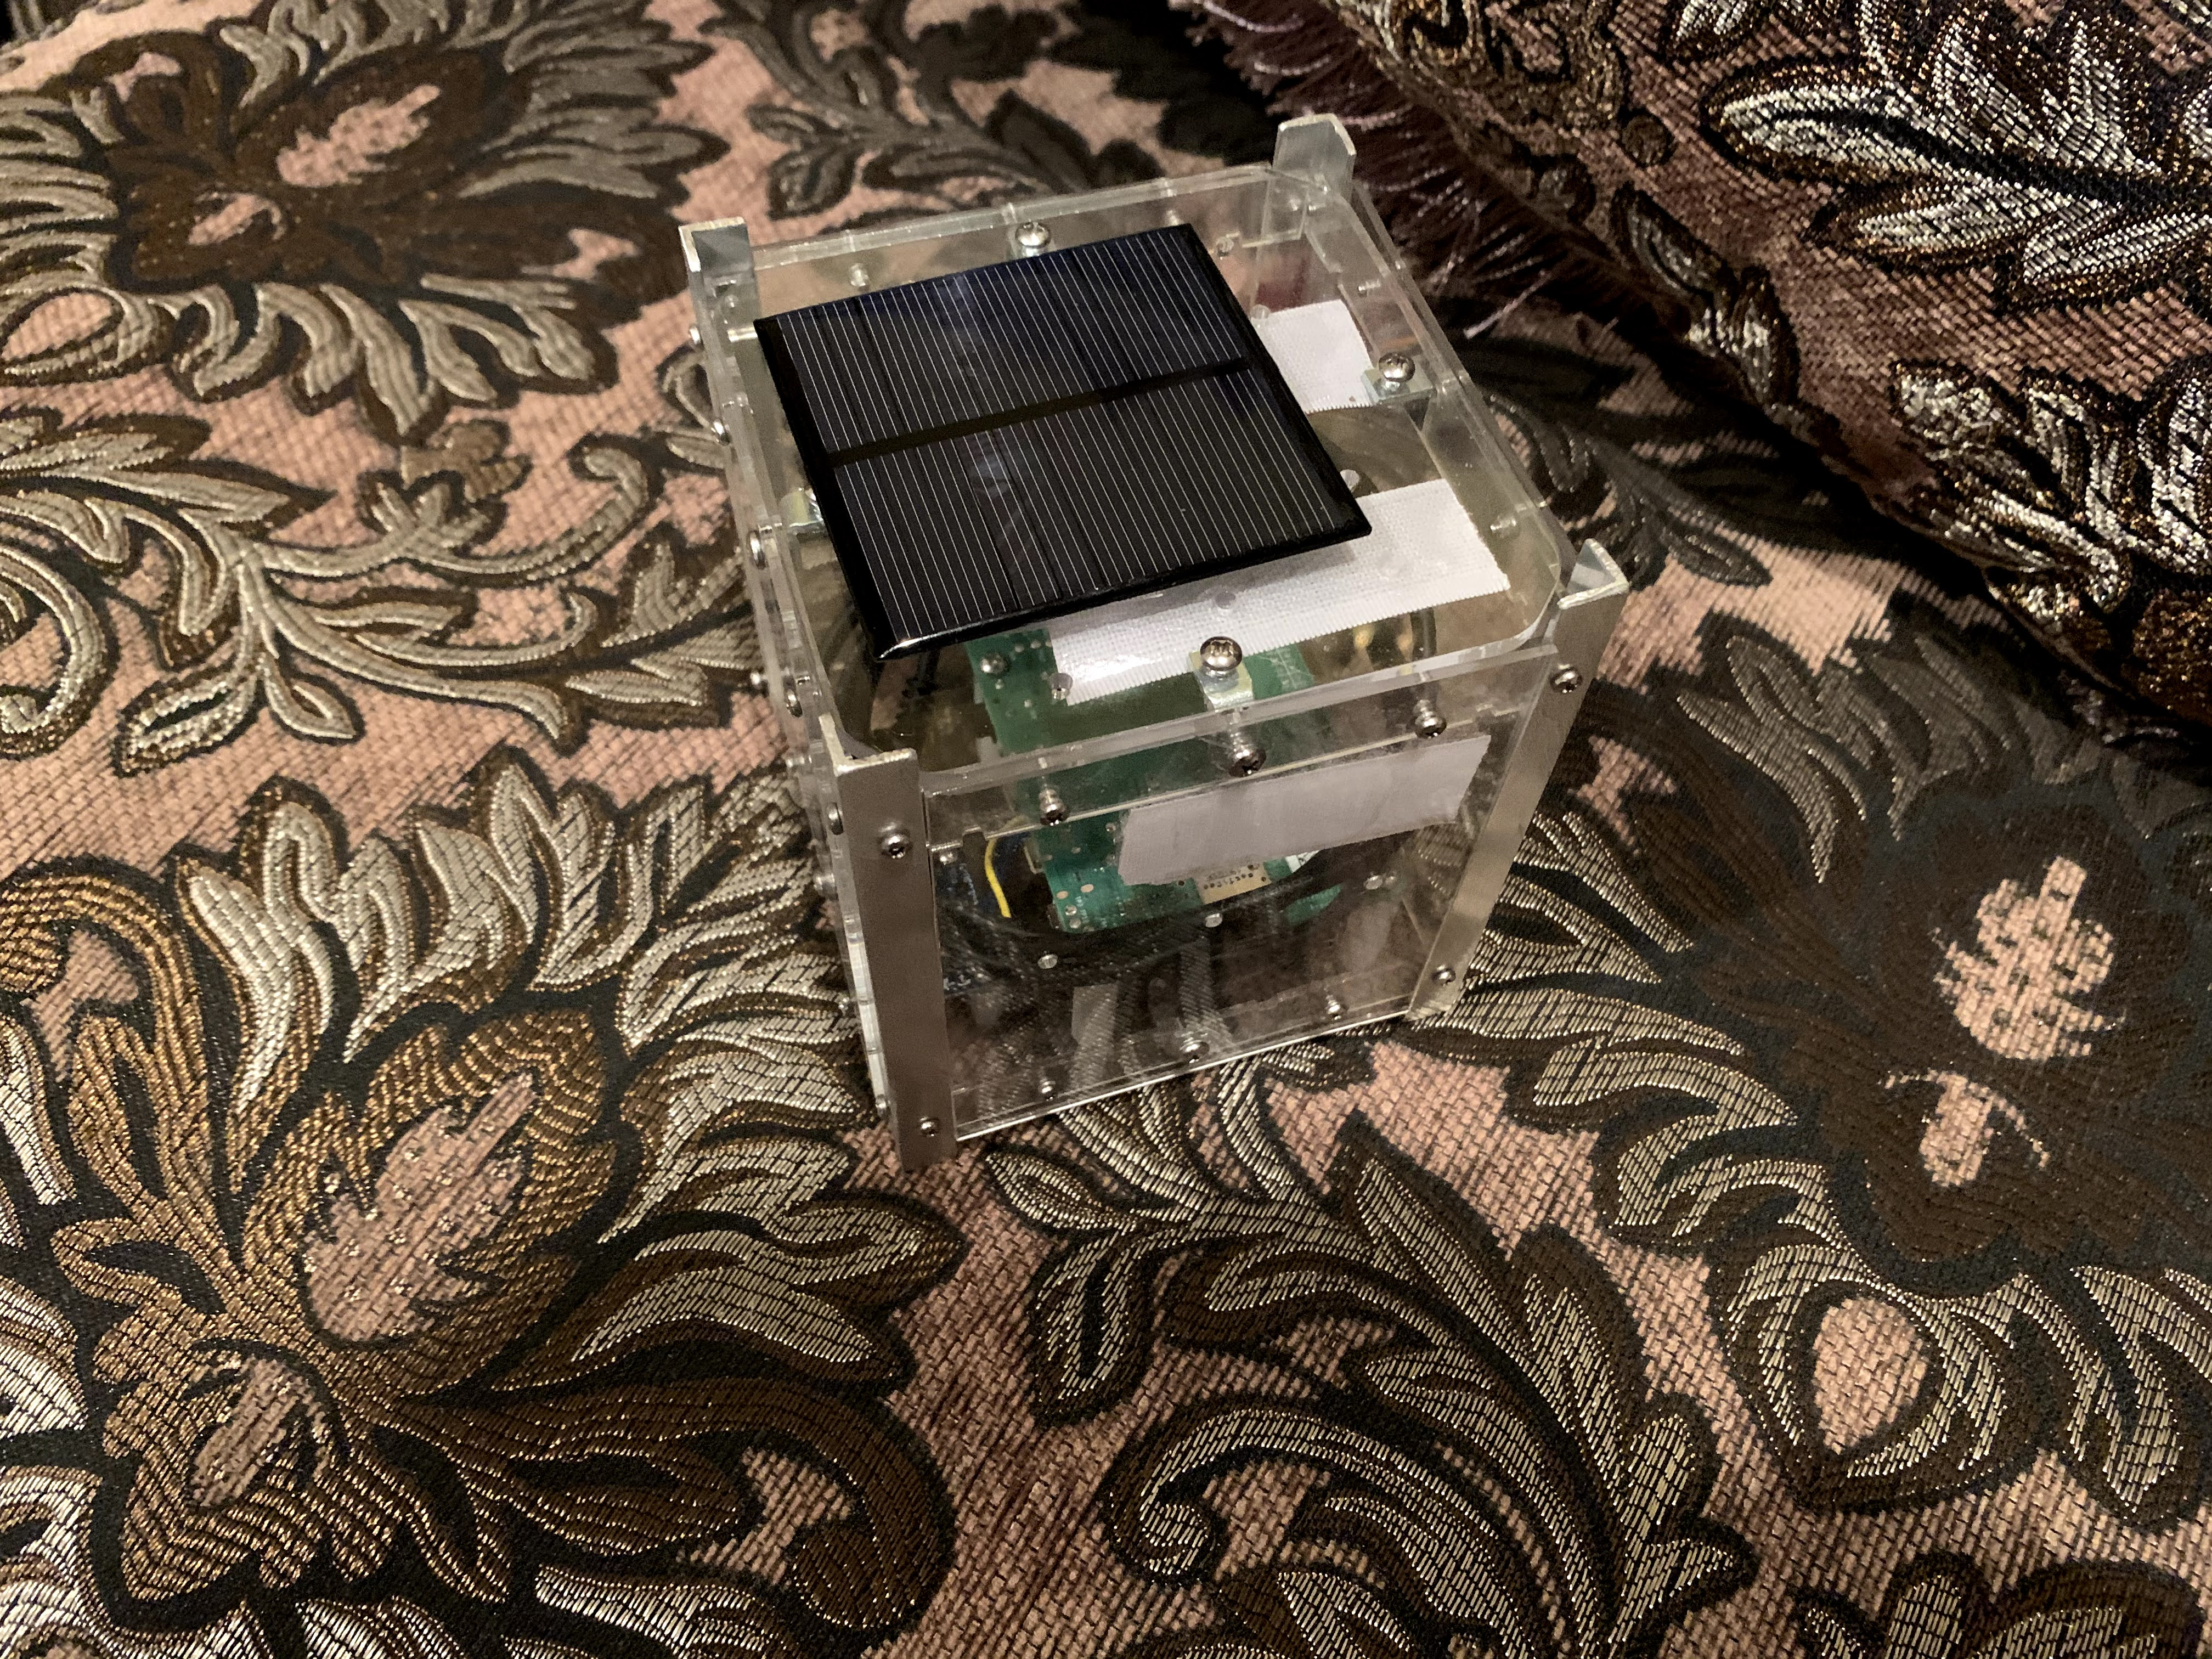Space-debris-cubesat: (636, 98, 1623, 1185)
